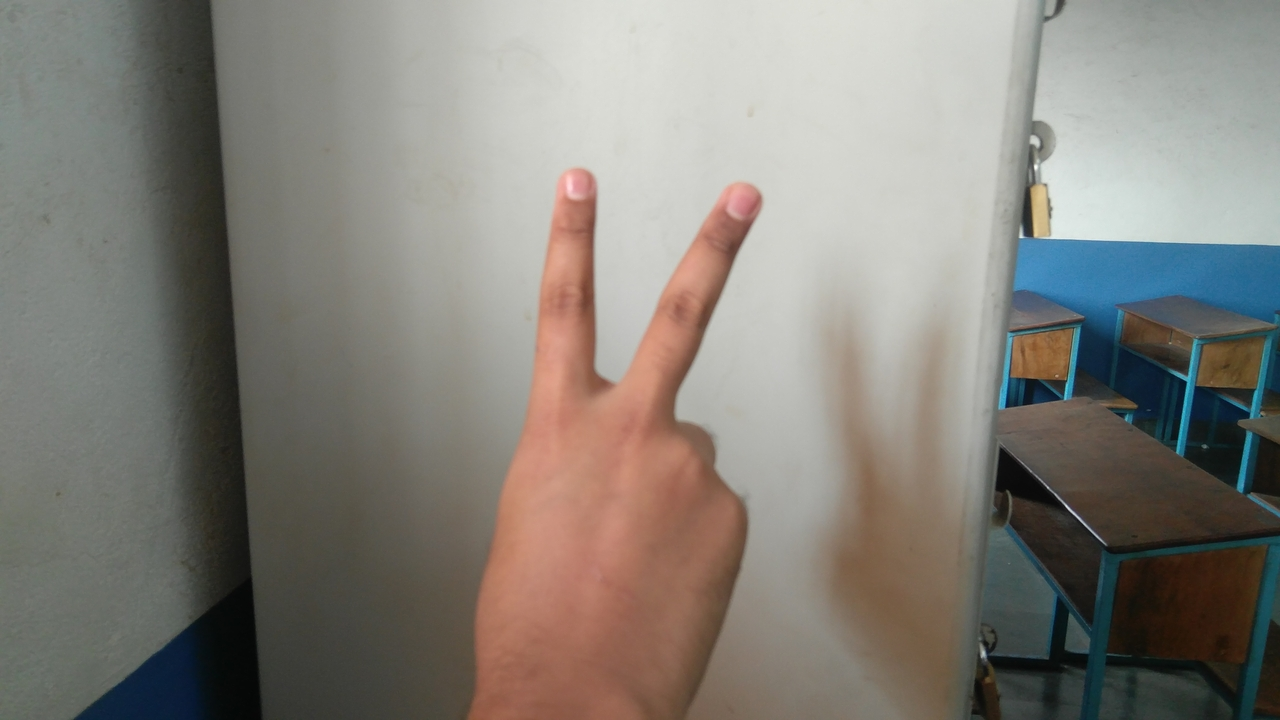fingertip: (708, 170, 772, 230), (542, 158, 602, 210)
